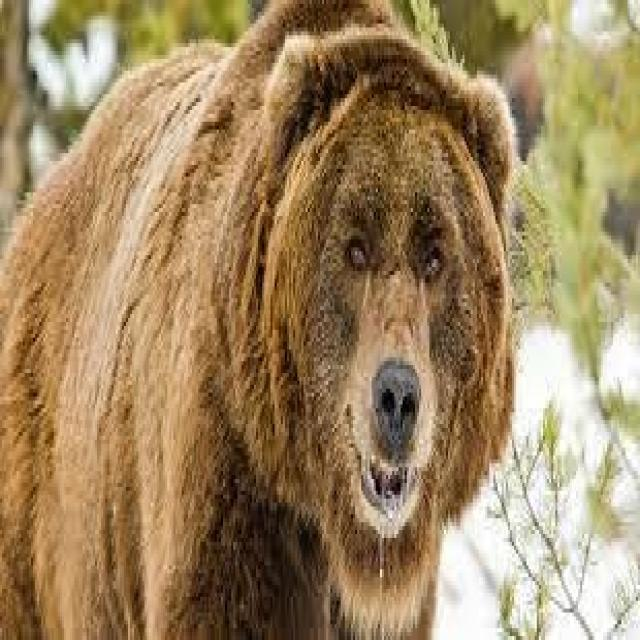Bear: (0, 0, 520, 640)
